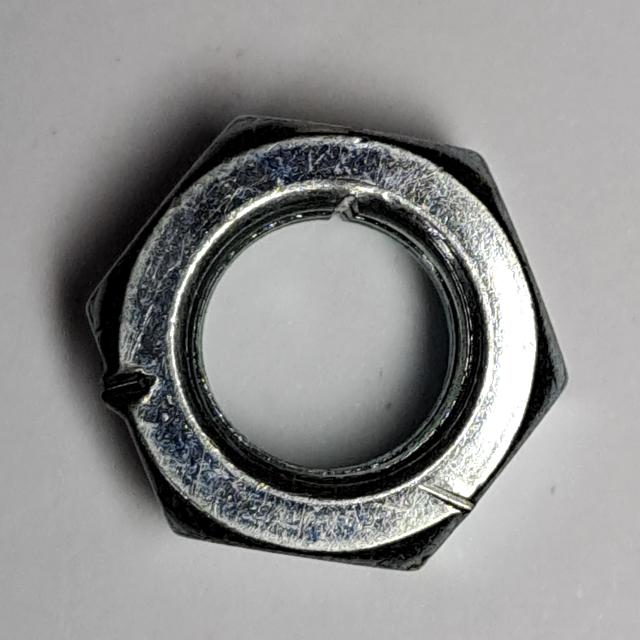Scratches: (74, 102, 580, 583)
